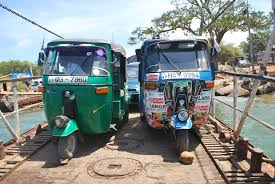tuk tuk: (38, 38, 131, 162), (139, 38, 221, 155)
